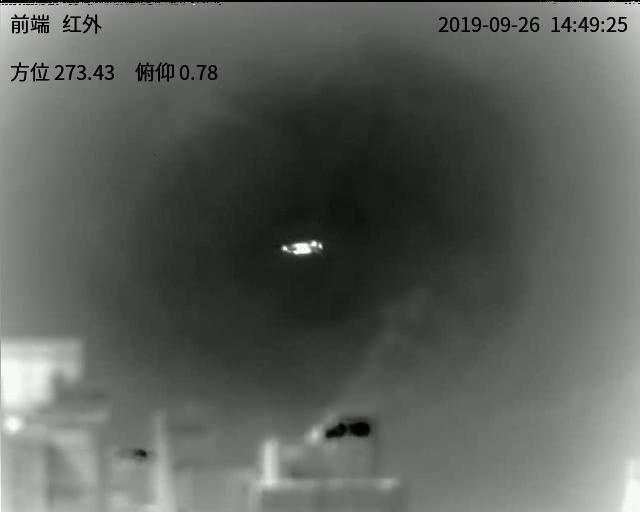DRONE: (281, 239, 325, 258)
